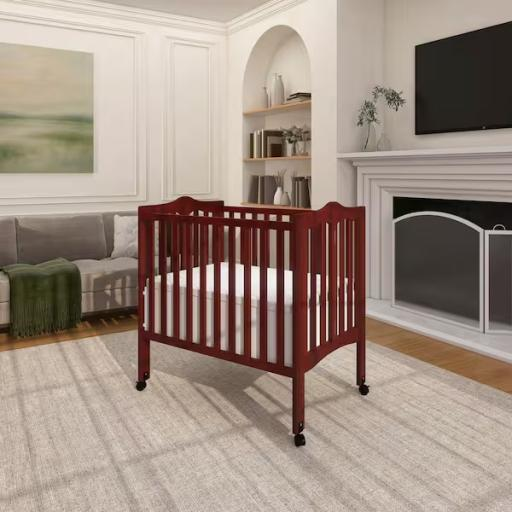crib: (137, 198, 368, 445)
